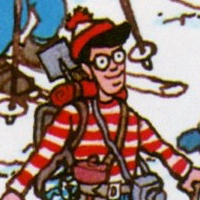waldo: (79, 18, 125, 100)
